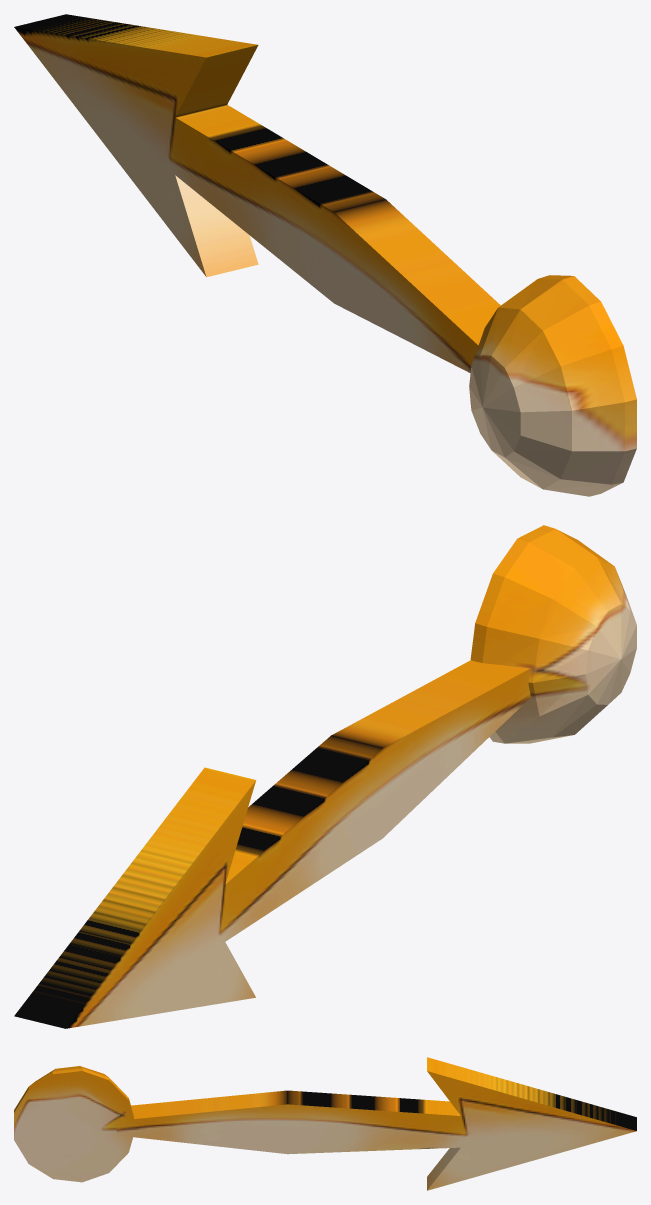
The model's file is ClkHand.glb.
The picture shows the model from 3 angles, top to bottom: view 1: azimuth 30°, elevation 25°; view 2: azimuth 150°, elevation 25°; view 3: azimuth 270°, elevation 25°; orthographic projection. The views are drawn at different scales.
Parts seen in each view (by area): view 1: ClkHand; view 2: ClkHand; view 3: ClkHand.
Part boxes in pixels (x1=…): ClkHand: x1=14, y1=14, x2=636, y2=496; ClkHand: x1=14, y1=525, x2=636, y2=1028; ClkHand: x1=14, y1=1057, x2=636, y2=1190.
Bounding box in the file's own units: 7.21 × 15.37 × 72.39.
Materials: 1 (1 with a texture image).
